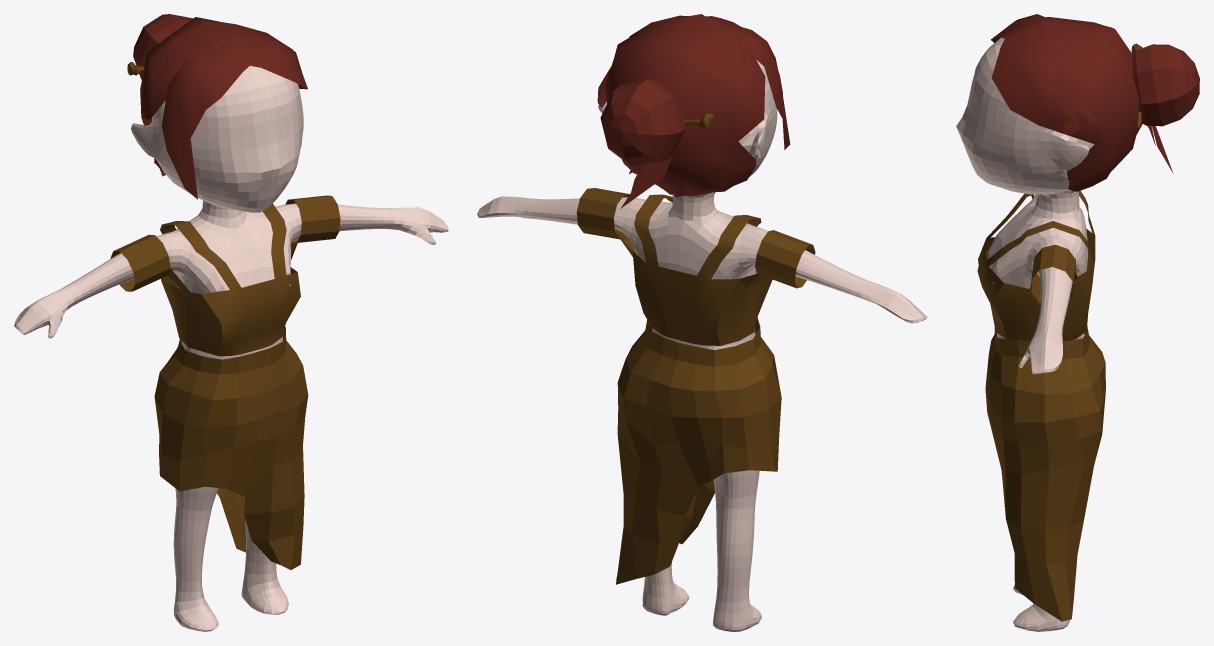
File: ragGirlTest.fbx
3 renders of one model, left to right at view 1: azimuth 30°, elevation 25°; view 2: azimuth 150°, elevation 25°; view 3: azimuth 270°, elevation 25°, orthographic. The views are drawn at different scales.
Visible parts, largest first — view 1: polySurface38, polySurface24; view 2: polySurface38, polySurface24; view 3: polySurface38, polySurface24.
Boxes of the visible parts, x1=… form: polySurface38: x1=14, y1=14, x2=448, y2=631; polySurface24: x1=110, y1=195, x2=340, y2=569; polySurface38: x1=477, y1=14, x2=927, y2=631; polySurface24: x1=576, y1=188, x2=815, y2=584; polySurface38: x1=956, y1=14, x2=1199, y2=631; polySurface24: x1=977, y1=190, x2=1105, y2=621.
Size of the model in its own units: 83.66 by 108 by 40.61.
